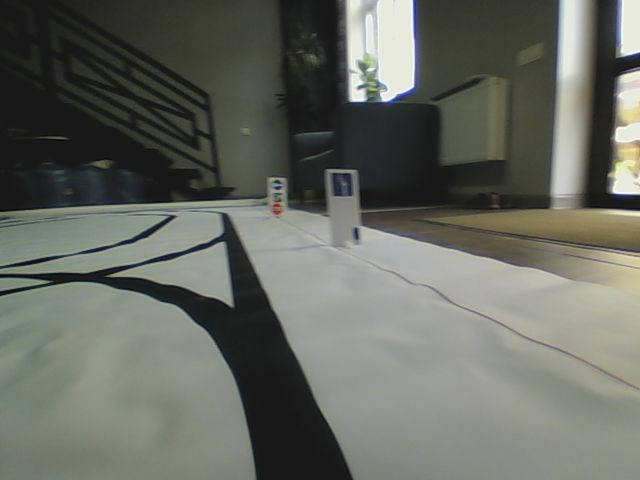priority_movement: (330, 172, 354, 199)
